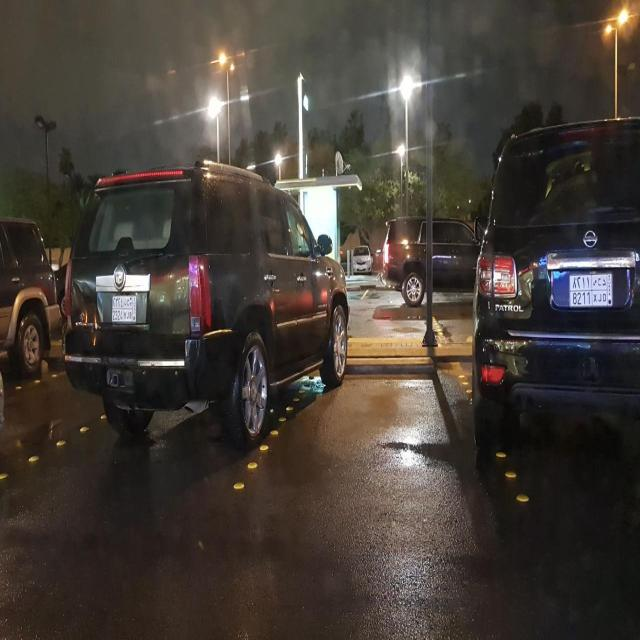license_plate: (569, 273, 612, 305), (111, 293, 136, 323)
